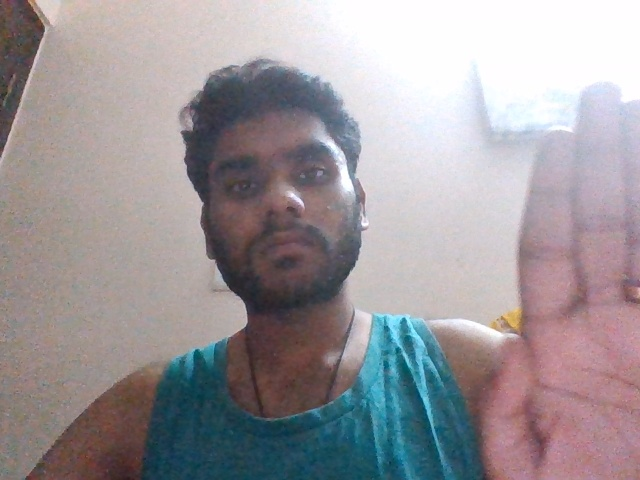hello: (467, 79, 640, 480)
